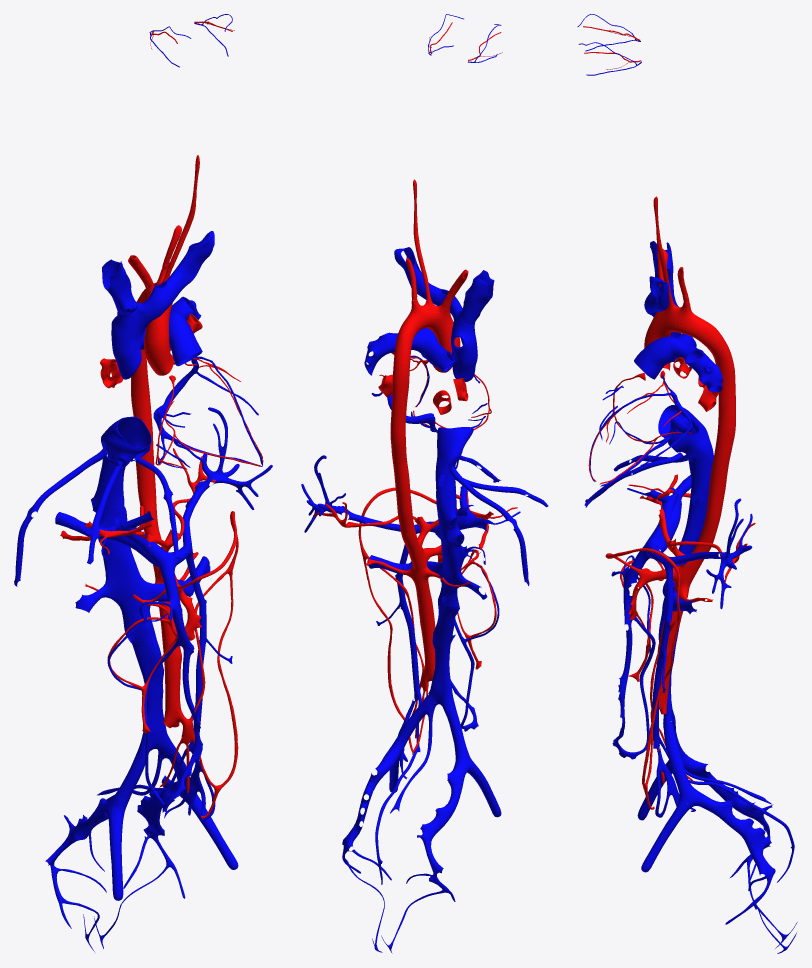
The model's file is VH_M_Blood_Vasculature_0.4.glb.
3 renders of one model, left to right at view 1: azimuth 30°, elevation 25°; view 2: azimuth 150°, elevation 25°; view 3: azimuth 270°, elevation 25°, orthographic. The views are drawn at different scales.
Parts seen in each view (by area): view 1: VH_M_inferior_vena_cava_b, VH_M_descending_aorta_b, VH_M_inferior_vena_cava_a, VH_M_superior_mesenteric_vein, VH_M_splenic_vein, VH_M_brachiocephalic_vein_L, VH_M_superior_vena_cava, VH_M_marginal_artery_of_Drummond, VH_M_descending_aorta_a, VH_M_brachiocephalic_vein_R, VH_M_inferior_mesenteric_vein, VH_M_pulmonary_trunk (+18 smaller); view 2: VH_M_inferior_vena_cava_b, VH_M_descending_aorta_b, VH_M_descending_aorta_a, VH_M_inferior_vena_cava_a, VH_M_aortic_arch, VH_M_internal_iliac_vein_R, VH_M_superior_vena_cava, VH_M_splenic_vein, VH_M_brachiocephalic_vein_R, VH_M_brachiocephalic_vein_L, VH_M_internal_iliac_vein_L, VH_M_marginal_artery_of_Drummond (+8 smaller); view 3: VH_M_descending_aorta_a, VH_M_descending_aorta_b, VH_M_inferior_vena_cava_b, VH_M_inferior_vena_cava_a, VH_M_internal_iliac_vein_L, VH_M_aortic_arch, VH_M_splenic_vein, VH_M_superior_mesenteric_vein, VH_M_pulmonary_artery_L, VH_M_inferior_mesenteric_vein, VH_M_marginal_artery_of_Drummond, VH_M_common_iliac_vein_L (+12 smaller).
Boxes of the visible parts, x1,y1,x2,y2 form: VH_M_inferior_vena_cava_b: (91, 472, 168, 751); VH_M_descending_aorta_b: (136, 458, 181, 727); VH_M_inferior_vena_cava_a: (100, 416, 151, 481); VH_M_superior_mesenteric_vein: (158, 563, 202, 810); VH_M_splenic_vein: (169, 407, 272, 566); VH_M_brachiocephalic_vein_L: (142, 231, 214, 320); VH_M_superior_vena_cava: (111, 302, 151, 379); VH_M_marginal_artery_of_Drummond: (178, 511, 238, 818); VH_M_descending_aorta_a: (131, 297, 153, 460); VH_M_brachiocephalic_vein_R: (102, 259, 136, 314); VH_M_inferior_mesenteric_vein: (186, 546, 206, 753); VH_M_pulmonary_trunk: (169, 312, 202, 366); VH_M_inferior_vena_cava_b: (428, 488, 464, 706); VH_M_descending_aorta_b: (395, 485, 435, 681); VH_M_descending_aorta_a: (390, 343, 411, 488); VH_M_inferior_vena_cava_a: (435, 427, 473, 492); VH_M_aortic_arch: (396, 304, 458, 348); VH_M_internal_iliac_vein_R: (417, 761, 467, 883); VH_M_superior_vena_cava: (451, 310, 477, 381); VH_M_splenic_vein: (301, 455, 439, 533); VH_M_brachiocephalic_vein_R: (460, 270, 494, 325); VH_M_brachiocephalic_vein_L: (394, 247, 462, 319); VH_M_internal_iliac_vein_L: (342, 751, 398, 852); VH_M_marginal_artery_of_Drummond: (358, 487, 436, 752); VH_M_descending_aorta_a: (708, 334, 735, 488); VH_M_descending_aorta_b: (656, 485, 725, 714); VH_M_inferior_vena_cava_b: (658, 470, 711, 722); VH_M_inferior_vena_cava_a: (658, 405, 713, 472); VH_M_internal_iliac_vein_L: (695, 791, 775, 881); VH_M_aortic_arch: (646, 306, 720, 348); VH_M_splenic_vein: (644, 498, 752, 609); VH_M_superior_mesenteric_vein: (612, 545, 650, 753); VH_M_pulmonary_artery_L: (669, 338, 723, 392); VH_M_inferior_mesenteric_vein: (652, 561, 673, 749); VH_M_marginal_artery_of_Drummond: (605, 548, 681, 809); VH_M_common_iliac_vein_L: (664, 720, 697, 807).
Bounding box in the file's own units: 0.2363 × 0.8728 × 0.1881.
